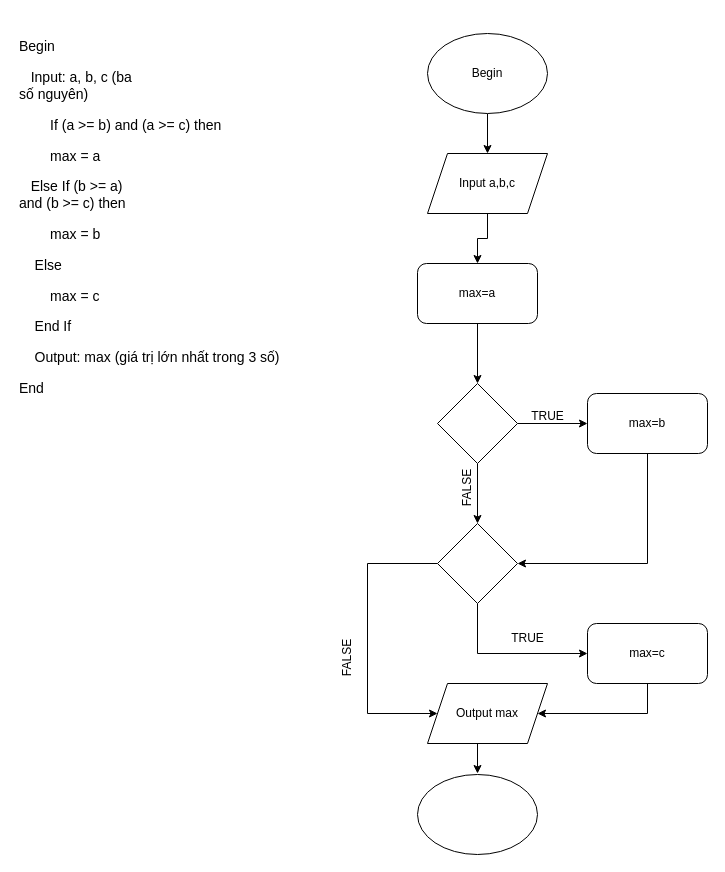
This 725x872 diagram has some shape labels left out. Here are the shapes that lost their labels. From the top down, the centre of each, then its label:
At (x=477, y=423): "if max < b".
At (x=477, y=563): "if max < c".
At (x=477, y=814): "End".
